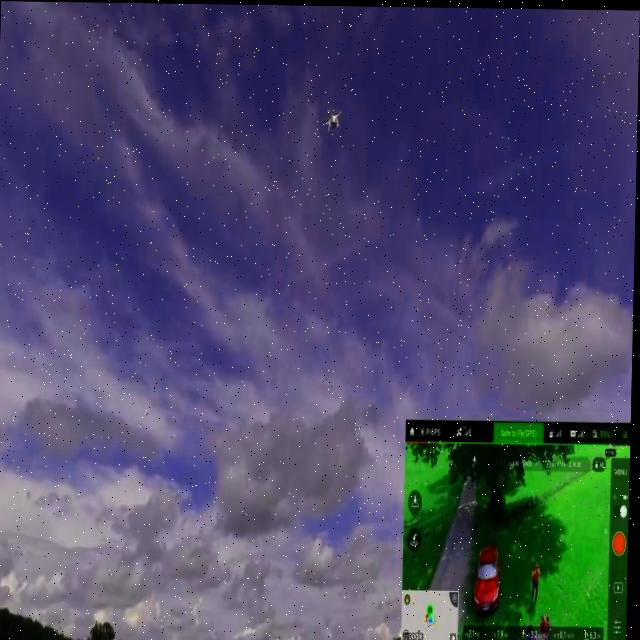drone: (324, 101, 342, 131)
